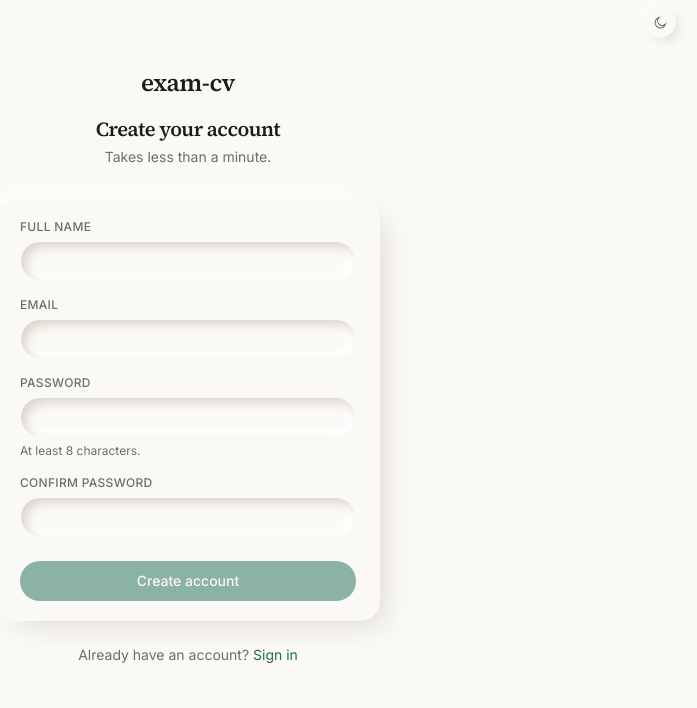
Test case: Register › surfaces a duplicate-email error from the server
Type "Ada Lovelace" into the field labelled "Full name". click: (188, 261)
box: [20,241,356,281]
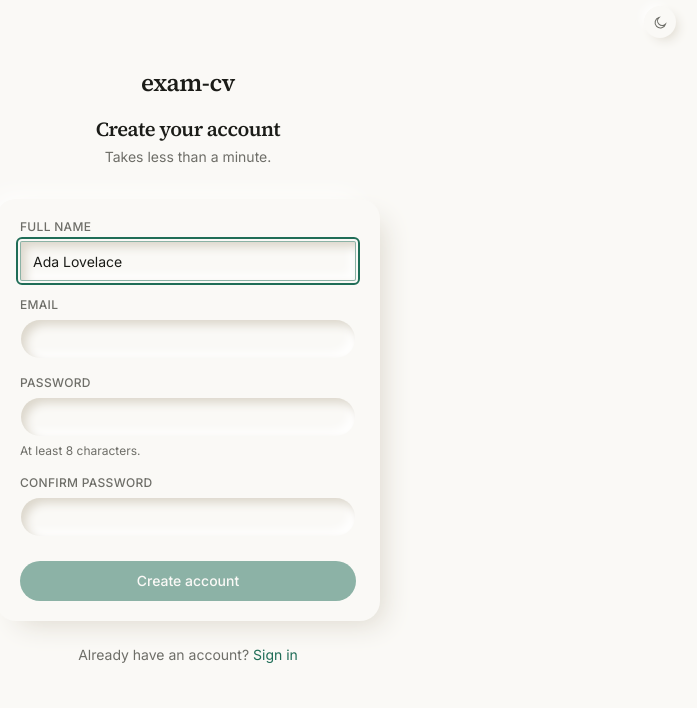
Type "ada@example.com" into the field labelled "Email". click: (188, 339)
box: [20,319,356,359]
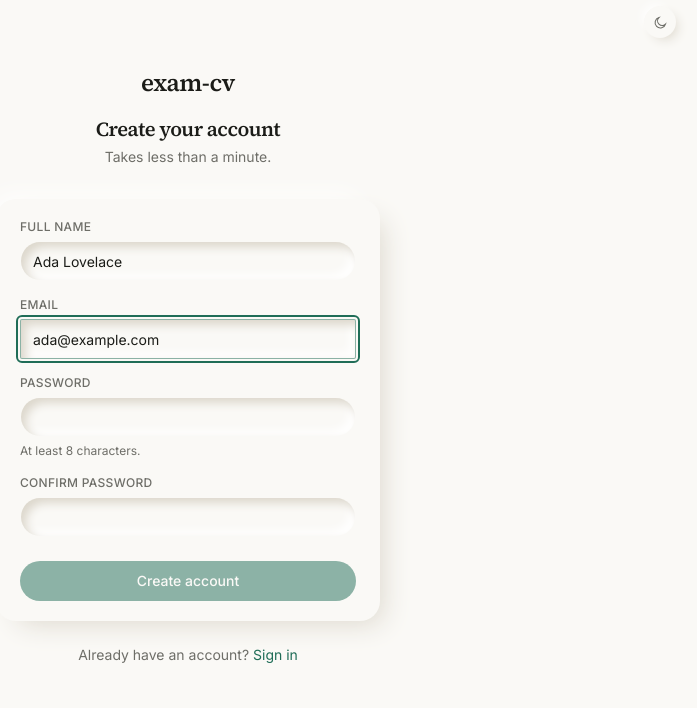
Type "correct-horse" into the password field labelled "Password". click: (188, 417)
box: [20,397,356,437]
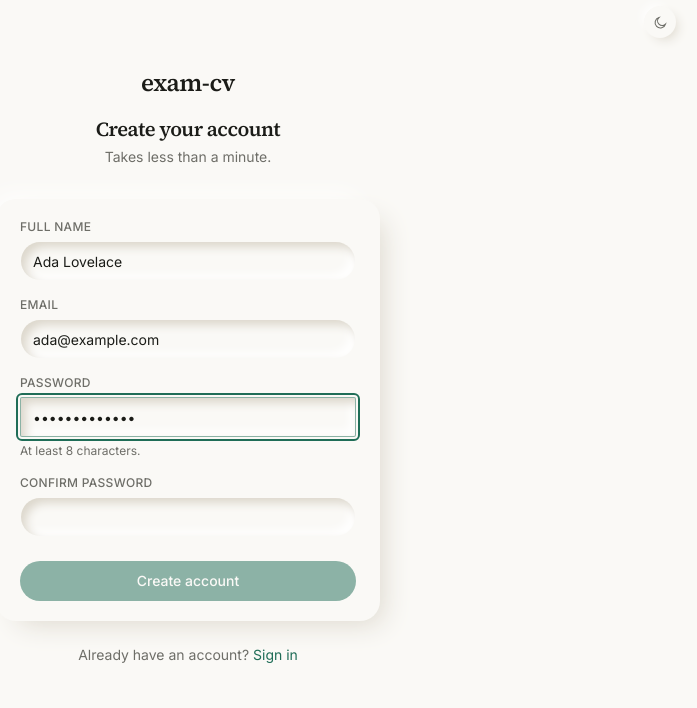
Type "correct-horse" into the password field labelled "Confirm password". click: (188, 517)
box: [20,497,356,537]
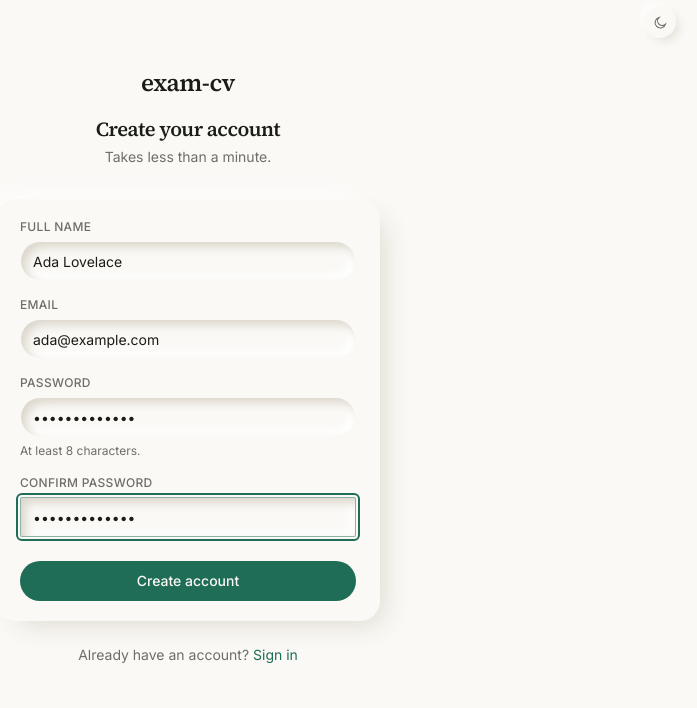
Click the button "Create account". click: (188, 581)
box: [20,561,356,601]
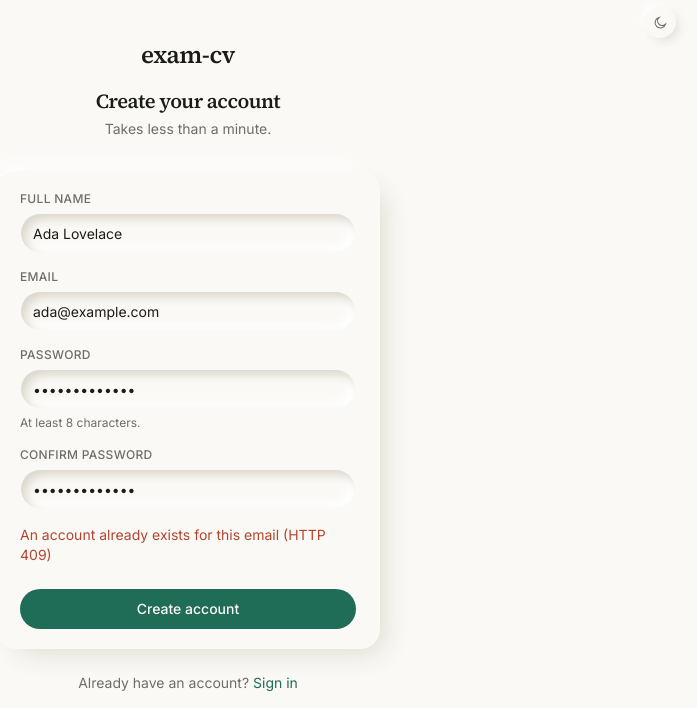
Expected: the message reads "An account already exists for this email (HTTP 409)", [20,526,326,563]
